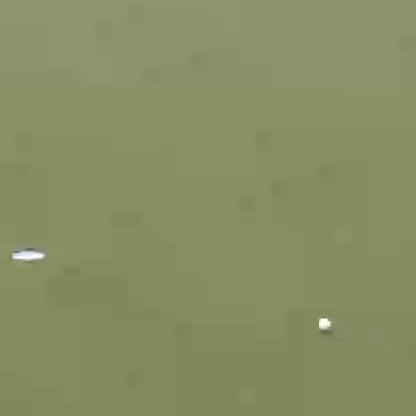golfball: (317, 317, 331, 329)
